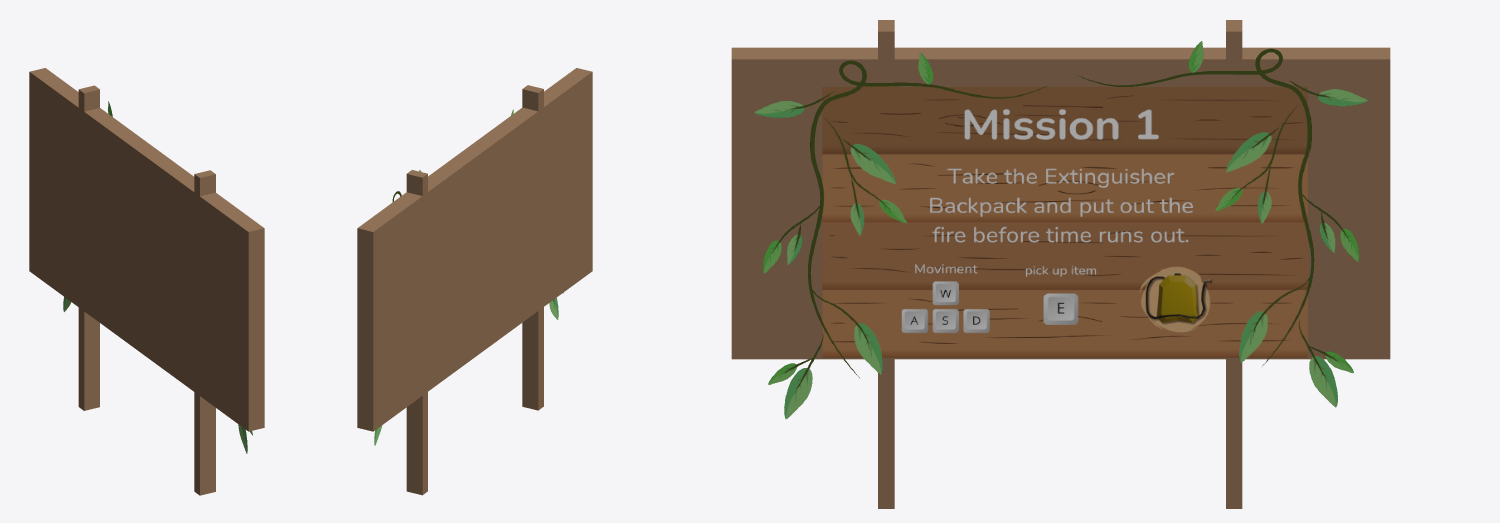
The model's file is reflorestamentoD.fbx.
The picture shows the model from 3 angles, left to right: view 1: azimuth 30°, elevation 25°; view 2: azimuth 150°, elevation 25°; view 3: azimuth 270°, elevation 25°; orthographic projection. The views are drawn at different scales.
Visible parts, largest first — view 1: Cube; view 2: Cube; view 3: 1, Cube.
Boxes of the visible parts, bbox=[...] form: Cube: bbox=[29, 68, 264, 495]; Cube: bbox=[357, 68, 592, 495]; 1: bbox=[754, 41, 1367, 419]; Cube: bbox=[731, 20, 1390, 508].
Size of the model in its own units: 17.24 by 330 by 513.
